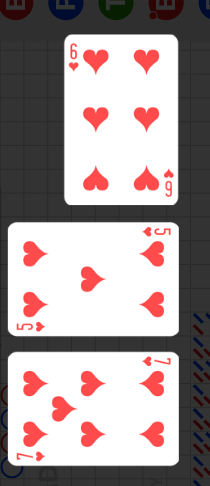5H: (141, 226, 173, 238)
6H: (68, 42, 81, 73)
7H: (15, 449, 47, 462)
